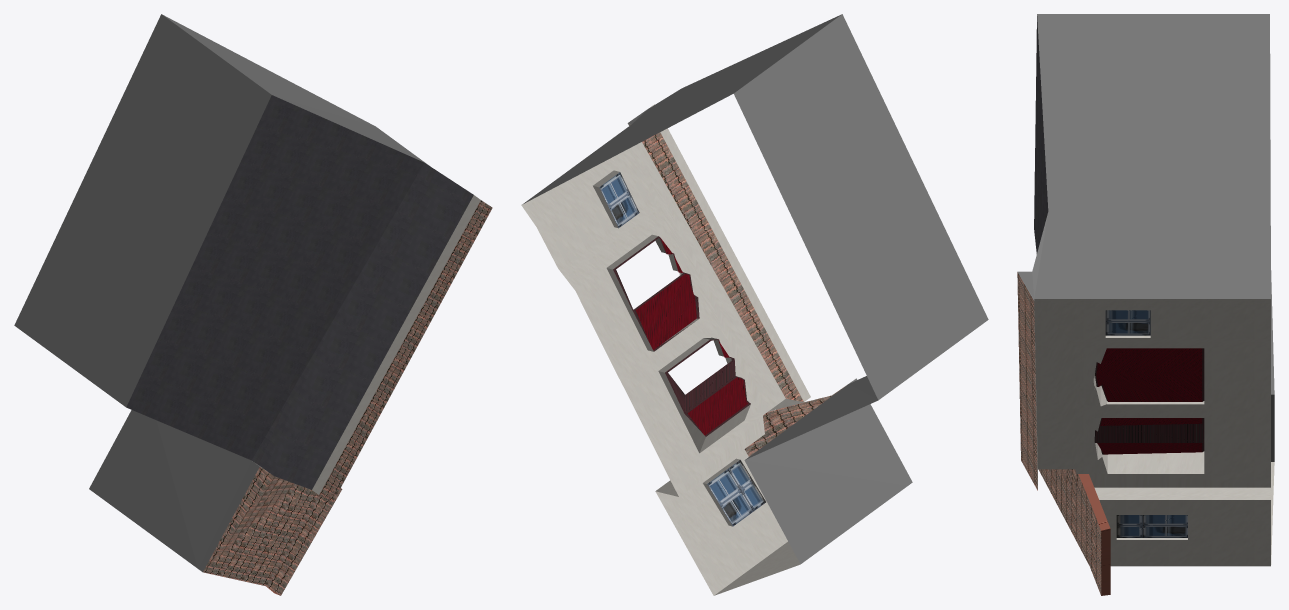
File: Lai_30e-origo.obj
3 renders of one model, left to right at view 1: azimuth 30°, elevation 25°; view 2: azimuth 150°, elevation 25°; view 3: azimuth 270°, elevation 25°, orthographic. The views are drawn at different scales.
Visible parts, largest first — view 1: Lai_30e; view 2: Lai_30e; view 3: Lai_30e.
Part boxes in pixels (<box>): Lai_30e: <box>14,14,492,595</box>; Lai_30e: <box>521,14,988,595</box>; Lai_30e: <box>1017,14,1274,595</box>.
Bounding box in the file's own units: 10.44 × 14.5 × 6.02.
